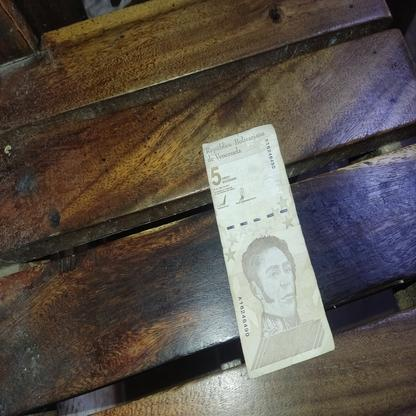five-front-vef: (201, 123, 335, 379)
